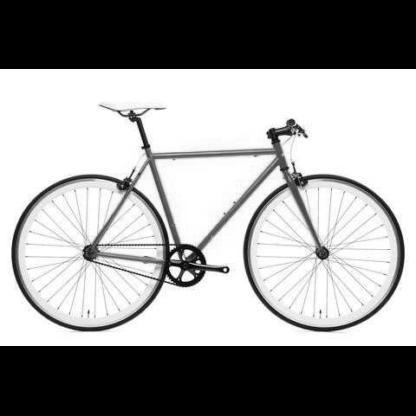Bicycle: (2, 80, 414, 340)
